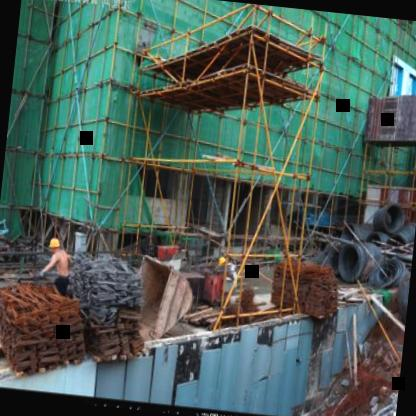helmet: (44, 233, 62, 259)
